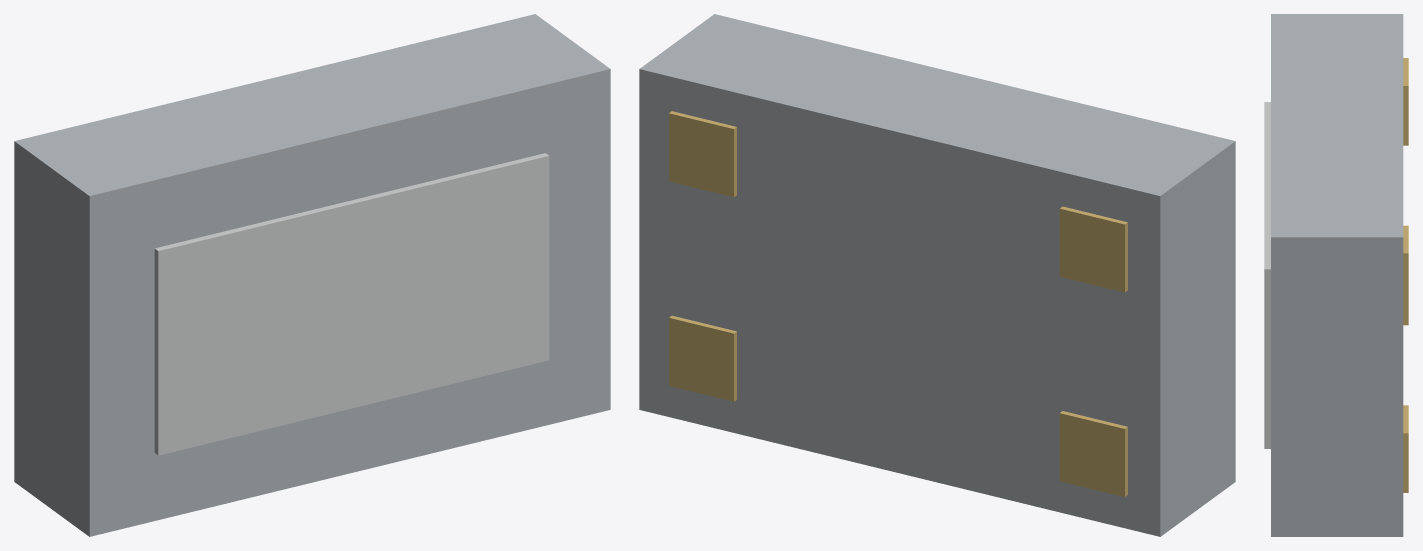
The picture shows the model from 3 angles, left to right: view 1: azimuth 30°, elevation 25°; view 2: azimuth 150°, elevation 25°; view 3: azimuth 270°, elevation 25°; orthographic projection. The views are drawn at different scales.
Parts seen in each view (by area): view 1: 000_ALUMINUM, 001_SILK; view 2: 000_ALUMINUM, 002_GOLD, 003_GOLD, 004_GOLD, 005_GOLD; view 3: 000_ALUMINUM, 001_SILK, 005_GOLD, 003_GOLD, 004_GOLD.
Boxes of the visible parts, x1,y1,x2,y2 form: 000_ALUMINUM: (14,14,610,536); 001_SILK: (154,153,549,455); 000_ALUMINUM: (639,14,1235,536); 002_GOLD: (1059,411,1127,496); 003_GOLD: (1059,206,1127,292); 004_GOLD: (669,315,736,401); 005_GOLD: (669,111,736,197); 000_ALUMINUM: (1271,14,1403,536); 001_SILK: (1264,102,1270,448); 005_GOLD: (1403,225,1408,313); 003_GOLD: (1403,58,1408,145); 004_GOLD: (1403,405,1408,492).
Size of the model in its own units: 0.008 by 0.005 by 0.00218.
